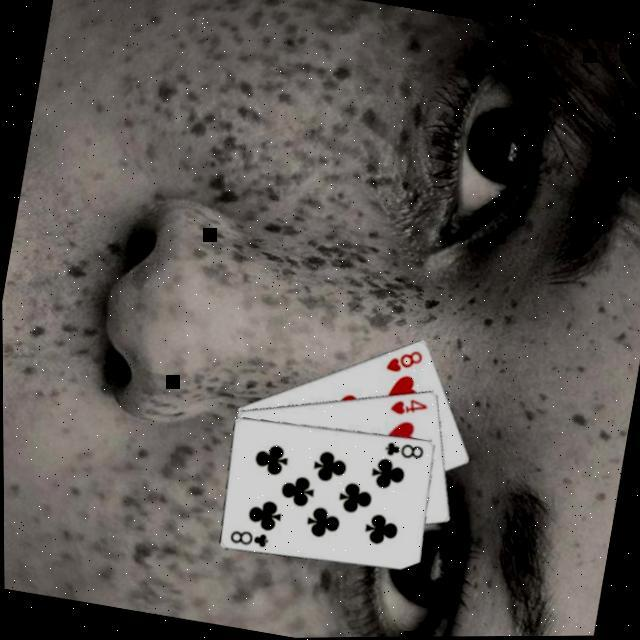4H: (386, 391, 431, 421)
8C: (380, 436, 428, 463), (225, 524, 272, 551)
8H: (381, 342, 427, 378)
